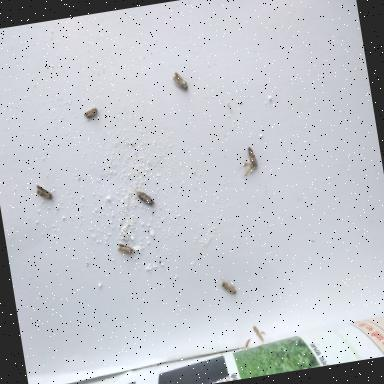pbw: (240, 145, 260, 176), (133, 185, 155, 210), (220, 274, 238, 300), (34, 182, 54, 202), (170, 70, 188, 92), (118, 242, 136, 258), (82, 104, 99, 120)
